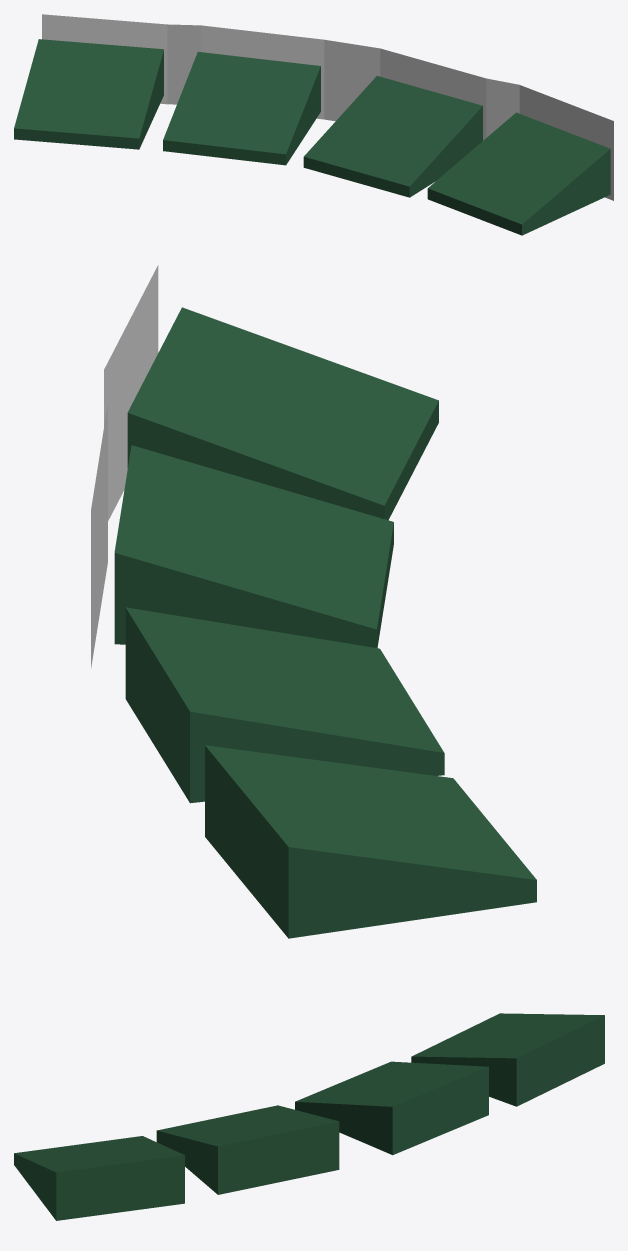
Rendered from terrace.glb.
The picture shows the model from 3 angles, top to bottom: view 1: azimuth 30°, elevation 25°; view 2: azimuth 150°, elevation 25°; view 3: azimuth 270°, elevation 25°; orthographic projection. The views are drawn at different scales.
Visible parts, largest first — view 1: Cube.003, Cube.004; view 2: Cube.003, Cube.004; view 3: Cube.003.
Boxes of the visible parts, left/top/right/bottom form: Cube.003: left=14, top=39, right=610, bottom=235; Cube.004: left=42, top=14, right=613, bottom=200; Cube.003: left=114, top=307, right=536, bottom=938; Cube.004: left=91, top=265, right=158, bottom=668; Cube.003: left=14, top=1013, right=604, bottom=1220.
Size of the model in its own units: 18.04 by 3.78 by 22.44.
